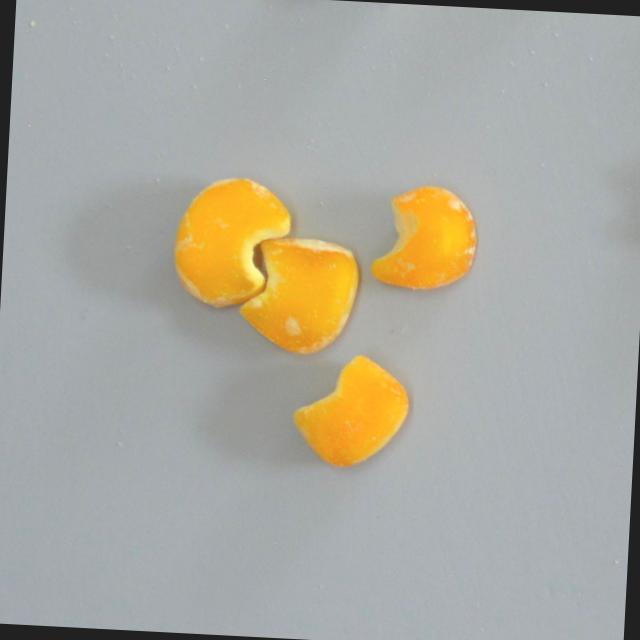dañado: (167, 171, 296, 316), (287, 346, 417, 478), (236, 230, 365, 362), (366, 178, 485, 296)
